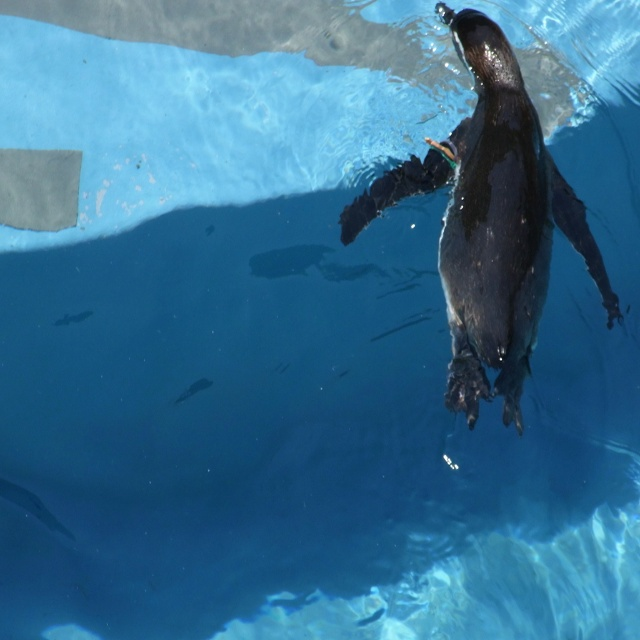Penguin: (407, 34, 626, 444)
